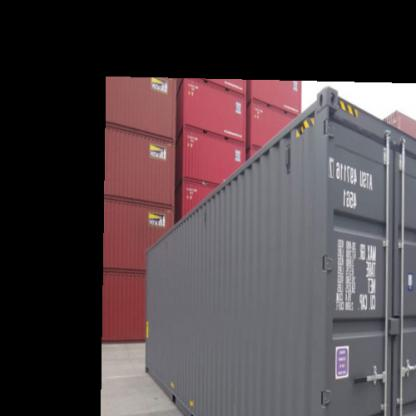Damage: (344, 256, 379, 298), (347, 370, 374, 399), (196, 207, 217, 229), (160, 237, 184, 253)
